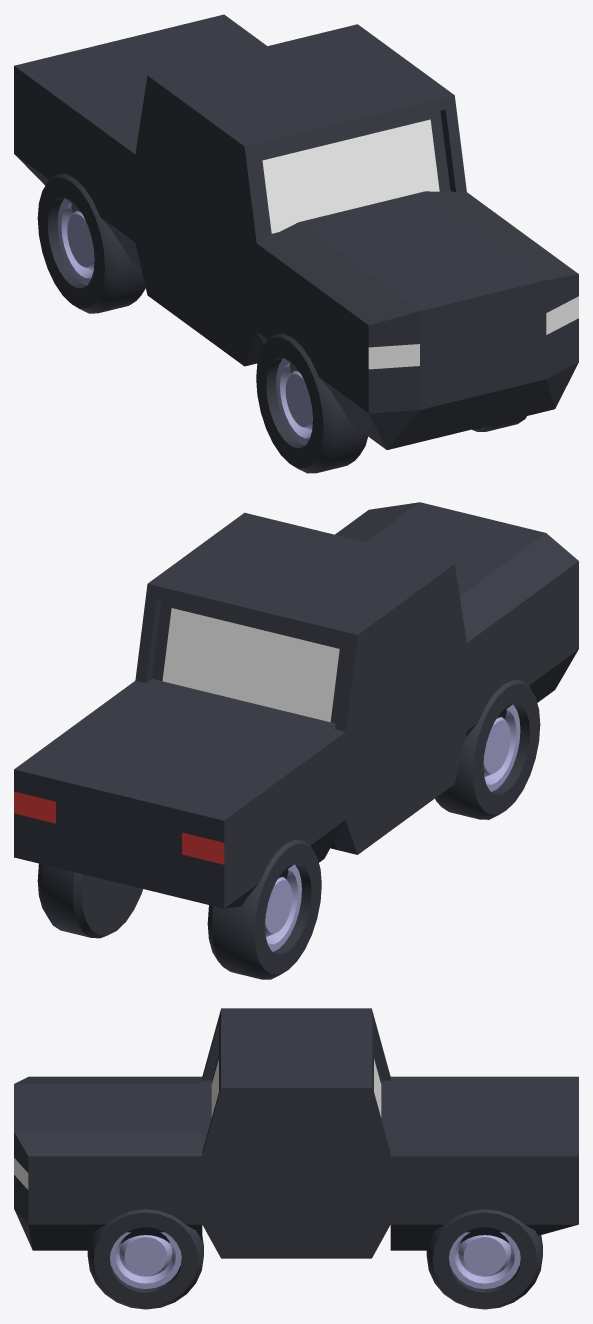
Rendered from Car3.fbx.
3 views of the same model, one above another, from view 1: azimuth 30°, elevation 25°; view 2: azimuth 150°, elevation 25°; view 3: azimuth 270°, elevation 25° (orthographic). The views are drawn at different scales.
Visible parts, largest first — view 1: mergedBlocks; view 2: mergedBlocks; view 3: mergedBlocks.
Boxes of the visible parts, x1,y1,x2,y2 form: mergedBlocks: (14, 14, 578, 473); mergedBlocks: (14, 502, 578, 979); mergedBlocks: (14, 1008, 578, 1309).
Bounding box in the file's own units: 10.33 × 13.08 × 30.
